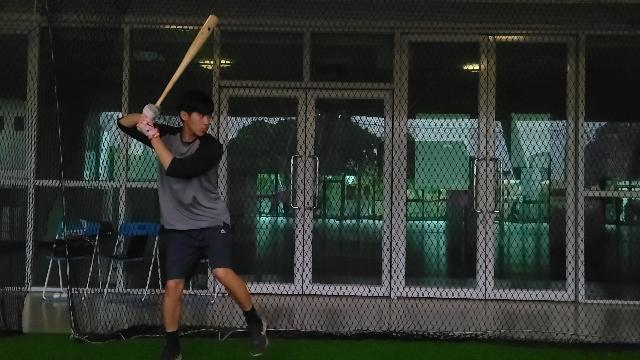baseball bat: (155, 13, 221, 106)
